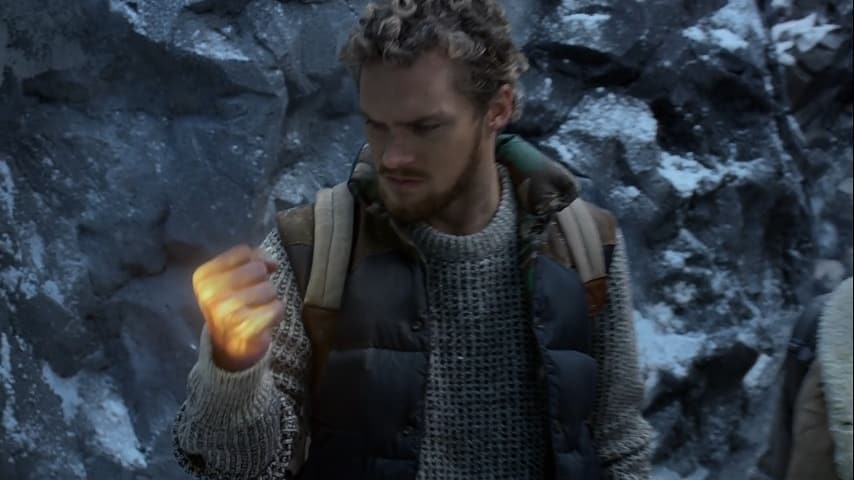hand: (192, 253, 277, 367)
